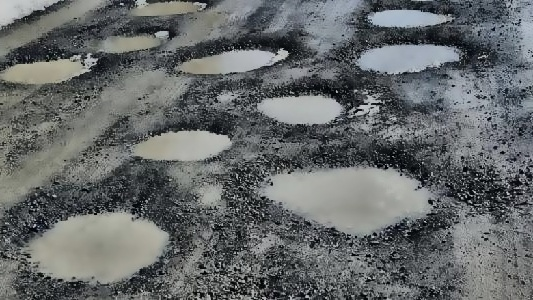pothole: (245, 151, 449, 241), (20, 202, 182, 287), (345, 33, 472, 76), (171, 34, 297, 76), (132, 122, 239, 162), (257, 84, 350, 125), (1, 52, 95, 86), (364, 4, 460, 27), (89, 29, 168, 54), (126, 0, 214, 18)
